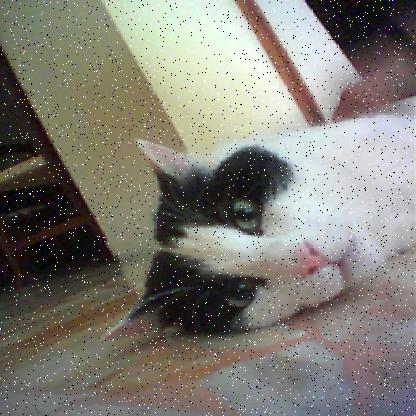cat: (98, 113, 406, 359)
